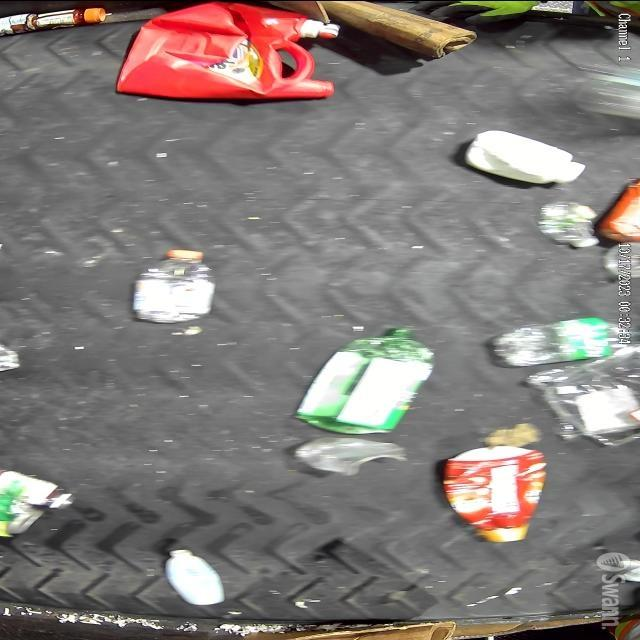non_white_jug: (116, 2, 340, 98), (443, 446, 549, 542)
plastic_bottle: (489, 317, 632, 364), (130, 250, 218, 326), (533, 200, 601, 248)
